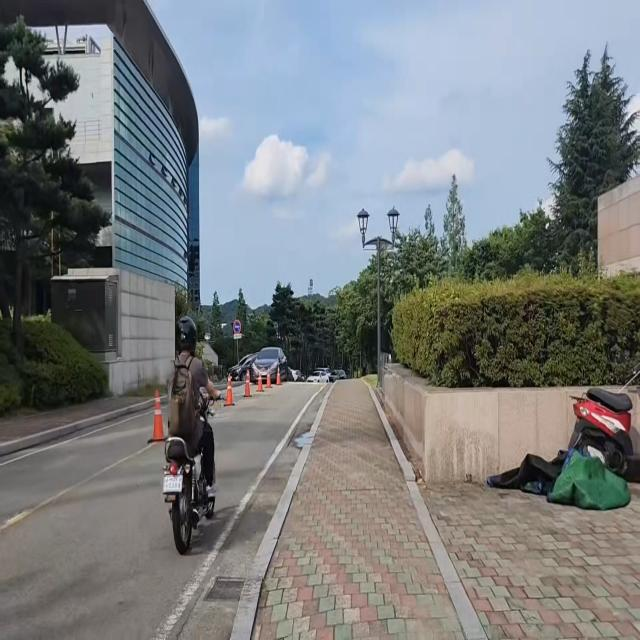obstacle: (158, 304, 228, 572), (563, 360, 640, 493)
road: (0, 376, 332, 640)
sidewalk: (230, 381, 640, 640), (0, 393, 157, 450)
